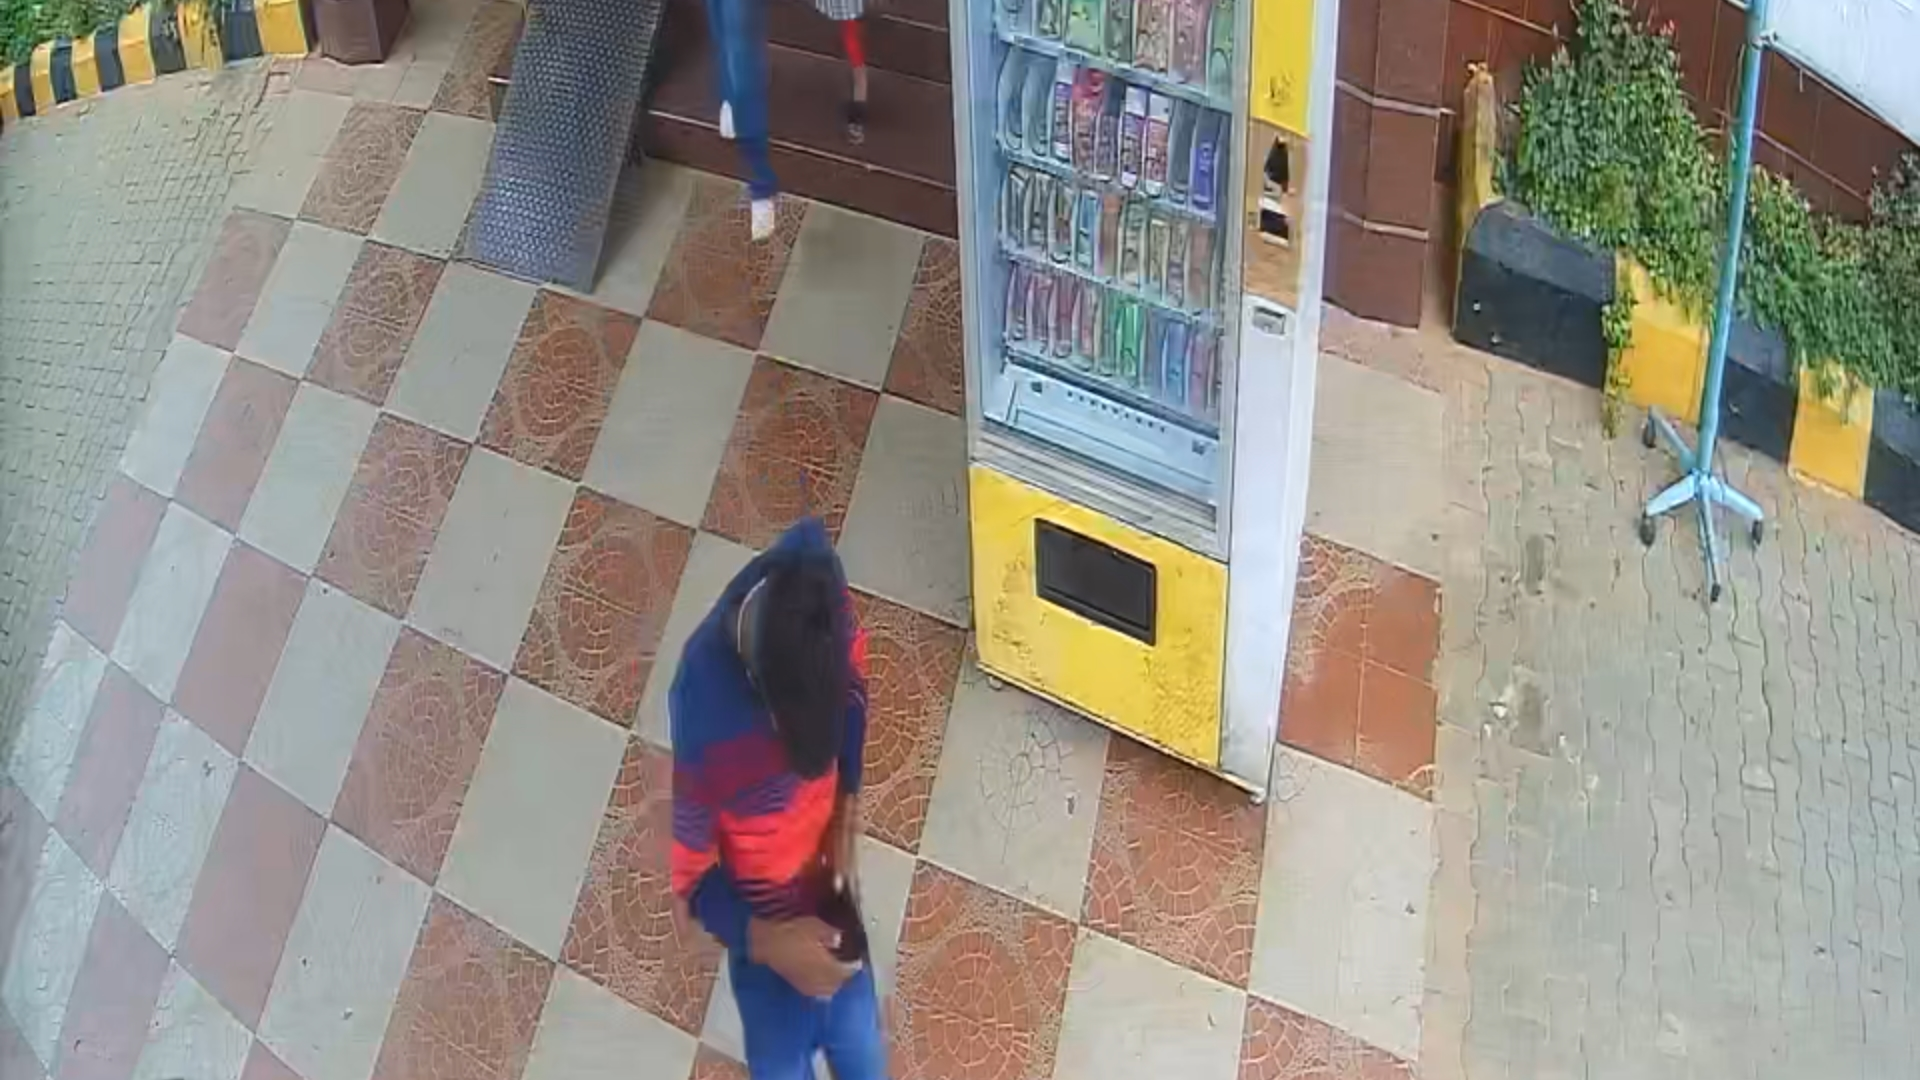intruder: (655, 521, 928, 1075)
